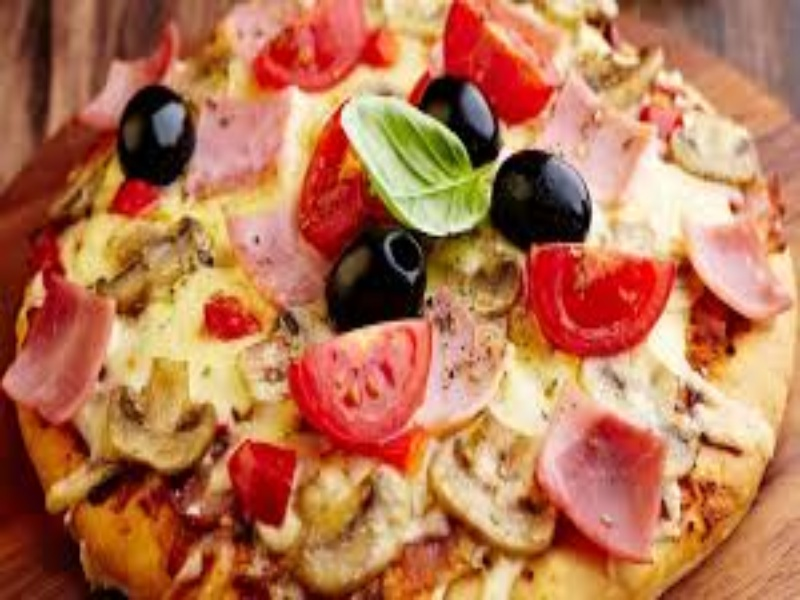olive noir: (500, 147, 597, 244), (331, 227, 430, 317), (114, 79, 195, 186), (418, 74, 505, 155)
